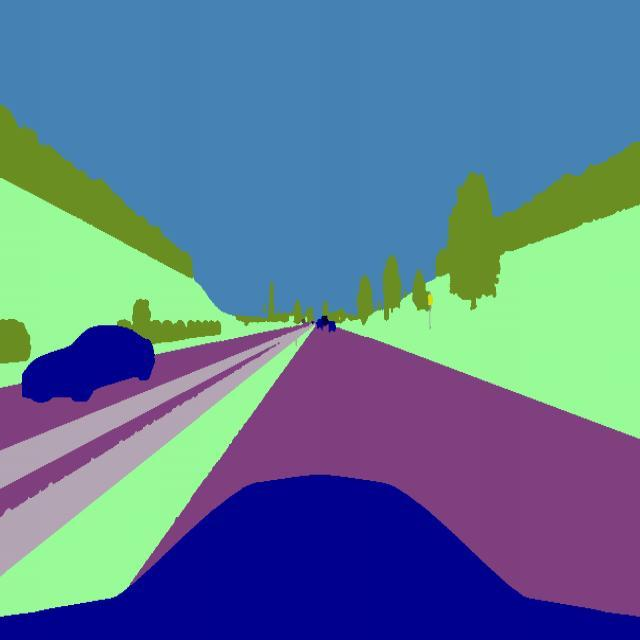safe: (18, 323, 158, 404), (325, 320, 337, 336), (313, 315, 325, 330)
